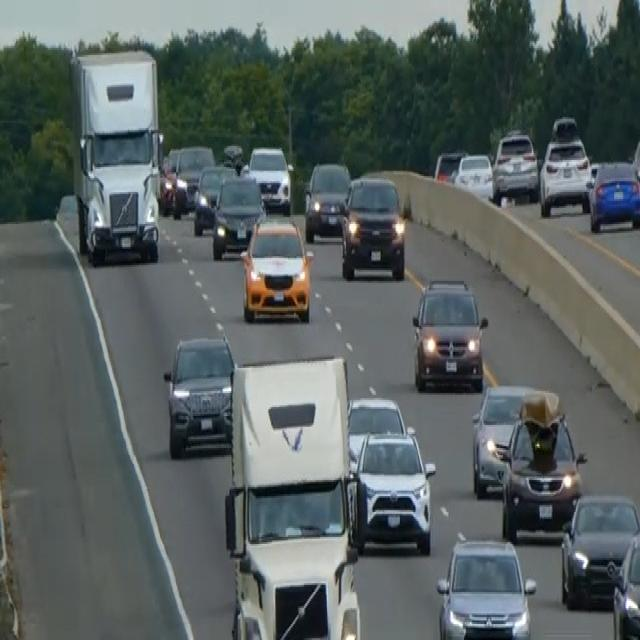car: (499, 390, 586, 540), (352, 425, 436, 555), (435, 535, 536, 638), (559, 490, 639, 610), (162, 331, 236, 458), (470, 380, 549, 498), (410, 275, 488, 393), (239, 214, 313, 324), (339, 172, 406, 281), (211, 172, 266, 260), (346, 393, 407, 471), (539, 133, 592, 217), (303, 158, 351, 242), (588, 156, 639, 233), (492, 128, 539, 203), (247, 142, 292, 214), (192, 162, 237, 234), (172, 142, 214, 217), (611, 526, 639, 638), (453, 151, 494, 201), (158, 146, 181, 212), (433, 148, 466, 183), (630, 133, 639, 224), (220, 140, 244, 170)
lorry: (222, 352, 364, 638), (67, 46, 163, 265)
